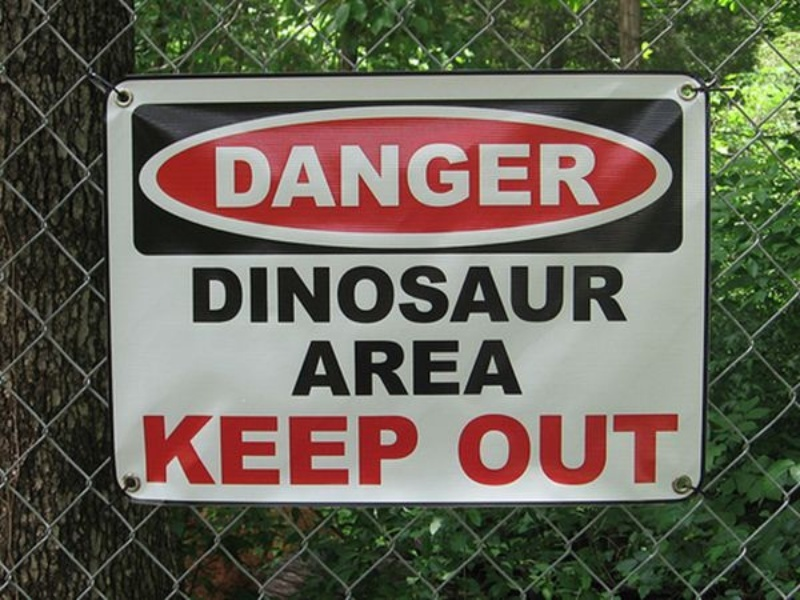text: (145, 414, 160, 489), (161, 414, 176, 489), (177, 414, 192, 489), (193, 414, 208, 489), (209, 414, 224, 489), (225, 414, 240, 489), (241, 414, 256, 489), (257, 414, 272, 489), (273, 414, 288, 489), (289, 414, 304, 489), (305, 414, 320, 489), (321, 414, 336, 489), (337, 414, 352, 489), (353, 414, 368, 489), (369, 414, 384, 489), (385, 414, 400, 489), (401, 414, 416, 489), (465, 414, 480, 487), (481, 414, 496, 487), (497, 414, 512, 487), (513, 414, 528, 487), (529, 414, 544, 487), (545, 414, 560, 487), (561, 414, 576, 487), (577, 414, 592, 487), (593, 414, 608, 487), (609, 414, 624, 487), (625, 414, 640, 487), (641, 414, 656, 487), (657, 414, 672, 487), (225, 139, 240, 210), (241, 139, 256, 210), (257, 139, 272, 210), (273, 139, 288, 210), (289, 139, 304, 210), (305, 139, 320, 210), (321, 139, 336, 210), (337, 139, 352, 210), (353, 139, 368, 210), (369, 139, 384, 210), (385, 139, 400, 210), (401, 139, 416, 210), (417, 139, 432, 210), (433, 139, 448, 210), (449, 139, 464, 210), (465, 139, 480, 210), (481, 139, 496, 210), (497, 139, 512, 210), (513, 139, 528, 210), (529, 139, 544, 210), (545, 139, 560, 210), (561, 139, 576, 210), (577, 139, 592, 210), (193, 265, 208, 323), (209, 265, 224, 323), (225, 265, 240, 323), (241, 265, 256, 323), (257, 265, 272, 323), (273, 265, 288, 323), (289, 265, 304, 323), (305, 265, 320, 323), (321, 265, 336, 323), (337, 265, 352, 323), (353, 265, 368, 323), (369, 265, 384, 323), (385, 265, 400, 323), (401, 265, 416, 323), (417, 265, 432, 323), (433, 265, 448, 323), (449, 265, 464, 323), (465, 265, 480, 323), (481, 265, 496, 323), (497, 265, 512, 323), (513, 265, 528, 323), (529, 265, 544, 323), (545, 265, 560, 323), (561, 265, 576, 323), (577, 265, 592, 323), (593, 265, 608, 323), (609, 265, 624, 323), (305, 341, 320, 398), (321, 341, 336, 398), (337, 341, 352, 398), (353, 341, 368, 398), (369, 341, 384, 398), (385, 341, 400, 398), (401, 341, 416, 398), (417, 341, 432, 398), (433, 341, 448, 398), (449, 341, 464, 398), (465, 341, 480, 398), (481, 341, 496, 398), (497, 341, 512, 398), (291, 341, 304, 398), (214, 139, 224, 210), (513, 341, 525, 398), (673, 414, 682, 487), (593, 139, 602, 210), (456, 414, 464, 487), (625, 265, 629, 323), (142, 414, 144, 489), (417, 414, 419, 489), (190, 265, 192, 323)
